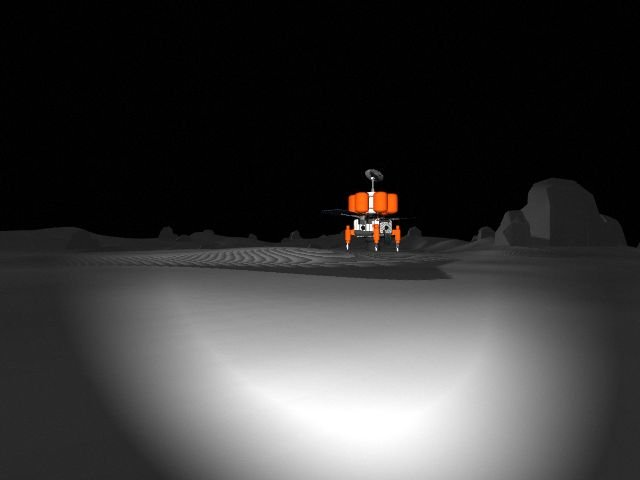homebase: (326, 167, 418, 255)
